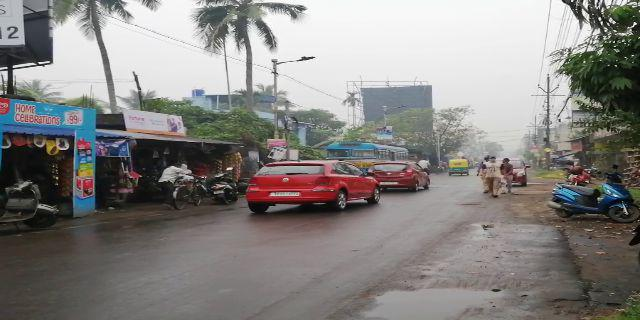Autorickshaw: (445, 156, 471, 178)
Car: (246, 162, 381, 213), (375, 162, 429, 194)
Motorbike: (552, 182, 636, 224)
